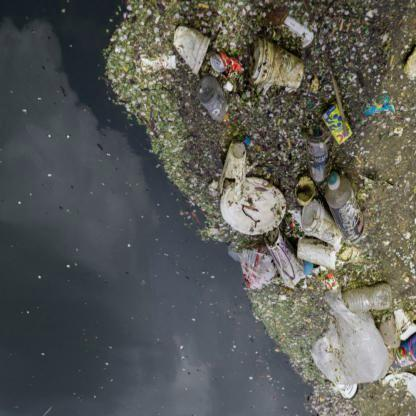Metal: (295, 235, 337, 270), (209, 50, 246, 78)
Plastic: (220, 180, 290, 237), (324, 170, 368, 248), (249, 42, 306, 94), (171, 21, 210, 79), (301, 198, 342, 247), (218, 139, 249, 202), (194, 72, 230, 126), (337, 284, 393, 314), (319, 104, 353, 147), (306, 131, 330, 186)
Trash: (311, 285, 394, 397), (267, 234, 311, 292), (235, 247, 277, 290)
